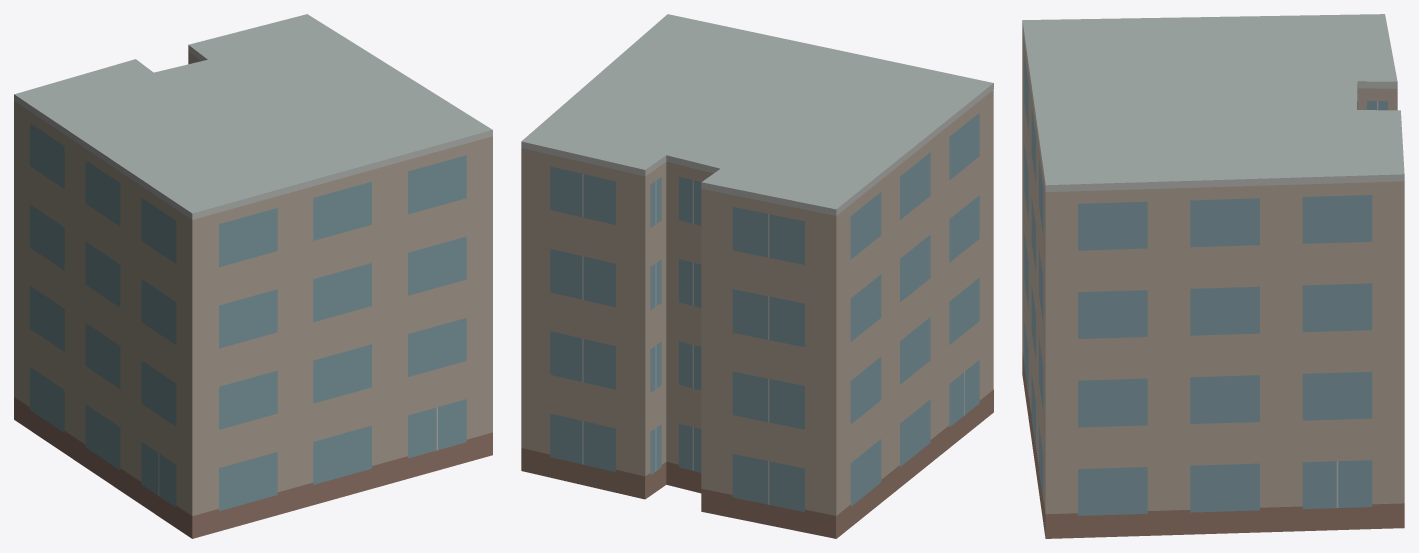
File: survey-upis-32956761.glb
3 renders of one model, left to right at view 1: azimuth 30°, elevation 25°; view 2: azimuth 150°, elevation 25°; view 3: azimuth 270°, elevation 25°, orthographic. The views are drawn at different scales.
Parts seen in each view (by area): view 1: survey-upis-32956761.tmp; view 2: survey-upis-32956761.tmp; view 3: survey-upis-32956761.tmp.
Part boxes in pixels (bbox=[...]): survey-upis-32956761.tmp: bbox=[14, 14, 492, 538]; survey-upis-32956761.tmp: bbox=[521, 14, 993, 538]; survey-upis-32956761.tmp: bbox=[1022, 14, 1404, 538].
Bounding box in the file's own units: 12.88 × 12.4 × 12.15.
